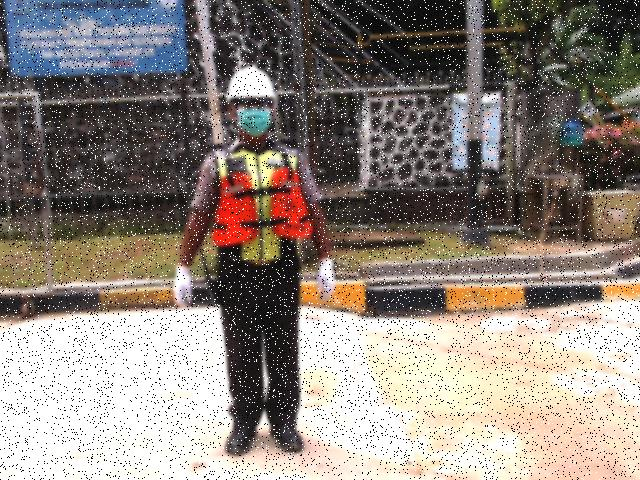glasses: (234, 99, 273, 108)
gloves: (315, 256, 337, 304), (173, 264, 195, 311)
helmet: (227, 65, 276, 98)
mask: (236, 110, 272, 135)
safety-shoes: (219, 418, 260, 459), (266, 416, 308, 455)
vest: (211, 165, 316, 250)
